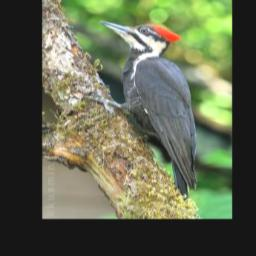Woodpecker: (85, 18, 207, 201)
